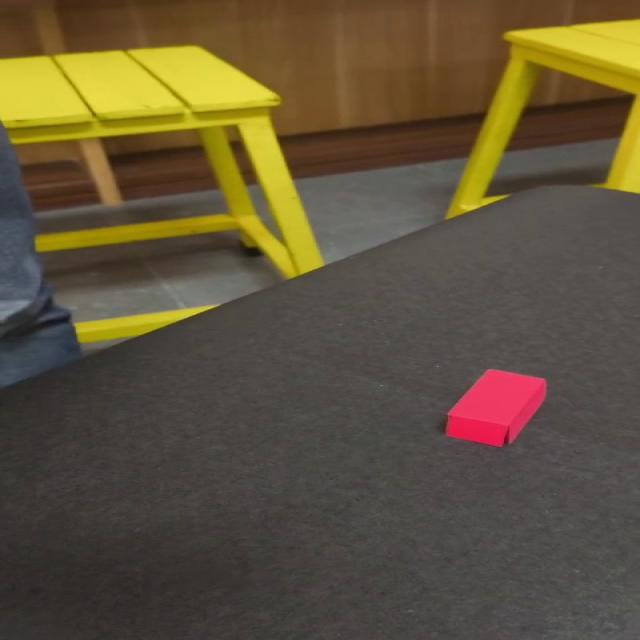red block: (444, 368, 547, 448)
